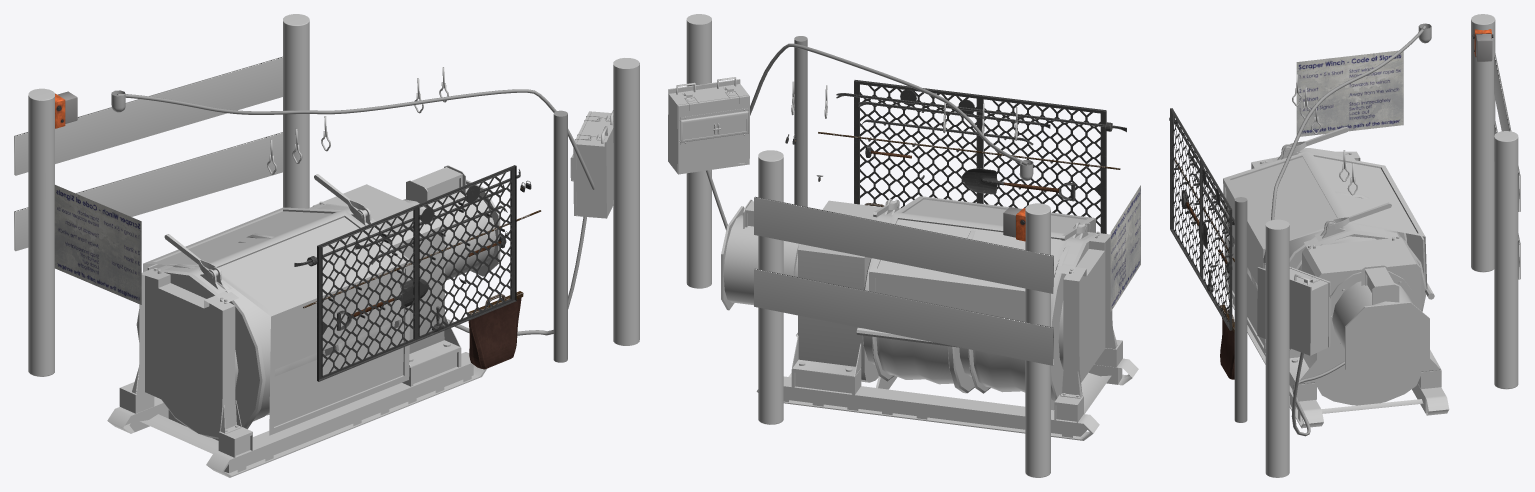
Rendered from Top winch power box on stick.fbx.
3 renders of one model, left to right at view 1: azimuth 30°, elevation 25°; view 2: azimuth 150°, elevation 25°; view 3: azimuth 270°, elevation 25°, orthographic. The views are drawn at different scales.
Parts seen in each view (by area): view 1: Winch_004, Winch_007, Tool_rack_001__3_, Wood_barricades_016, Wood_barricades_016.001, Wood_barricades_016.002, Cylinder_005, Code_of_Signals, Power_Box.002, Cylinder_012, BezierCurve_017, Signaling_Device_054 (+1 smaller); view 2: Winch_004, Tool_rack_001__3_, Wood_barricades_016.002, Wood_barricades_016.001, Winch_007, Wood_barricades_016, Power_Box.002, Cylinder_005, Code_of_Signals, Cylinder_012, BezierCurve_017, Signaling_Device_054; view 3: Winch_004, Winch_007, Wood_barricades_016, Code_of_Signals, Tool_rack_001__3_, Cylinder_005, Power_Box.002, Cylinder_012, BezierCurve_017, Wood_barricades_016.001, BezierCurve_005, Signaling_Device_054.
Boxes of the visible parts, x1,y1,x2,y2 form: Winch_004: (107, 165, 500, 477); Winch_007: (143, 207, 410, 435); Tool_rack_001__3_: (294, 165, 541, 381); Wood_barricades_016: (28, 14, 309, 376); Wood_barricades_016.001: (14, 56, 282, 175); Wood_barricades_016.002: (14, 132, 282, 251); Cylinder_005: (613, 58, 639, 345); Code_of_Signals: (54, 185, 141, 304); Power_Box.002: (570, 110, 613, 218); Cylinder_012: (553, 110, 567, 362); BezierCurve_017: (117, 89, 594, 189); Signaling_Device_054: (55, 91, 77, 128); Winch_004: (721, 199, 1138, 440); Tool_rack_001__3_: (818, 80, 1126, 233); Wood_barricades_016.002: (754, 268, 1053, 365); Wood_barricades_016.001: (754, 196, 1053, 293); Winch_007: (869, 196, 1095, 321); Wood_barricades_016: (758, 150, 1050, 477); Power_Box.002: (668, 77, 749, 174); Cylinder_005: (686, 14, 711, 288); Code_of_Signals: (1110, 185, 1140, 311); Cylinder_012: (794, 36, 807, 206); BezierCurve_017: (750, 43, 1028, 165); Signaling_Device_054: (1003, 207, 1025, 241); Winch_004: (1227, 126, 1449, 428); Winch_007: (1223, 151, 1427, 356); Wood_barricades_016: (1471, 14, 1518, 389); Code_of_Signals: (1296, 50, 1403, 136); Tool_rack_001__3_: (1169, 108, 1234, 379); Cylinder_005: (1265, 219, 1289, 477); Power_Box.002: (1257, 263, 1331, 355); Cylinder_012: (1234, 197, 1247, 422); BezierCurve_017: (1271, 26, 1425, 220); Wood_barricades_016.001: (1494, 53, 1520, 211); BezierCurve_005: (1291, 352, 1344, 436); Signaling_Device_054: (1472, 29, 1493, 61).
Bounding box in the file's own units: 344 × 194 × 226.
